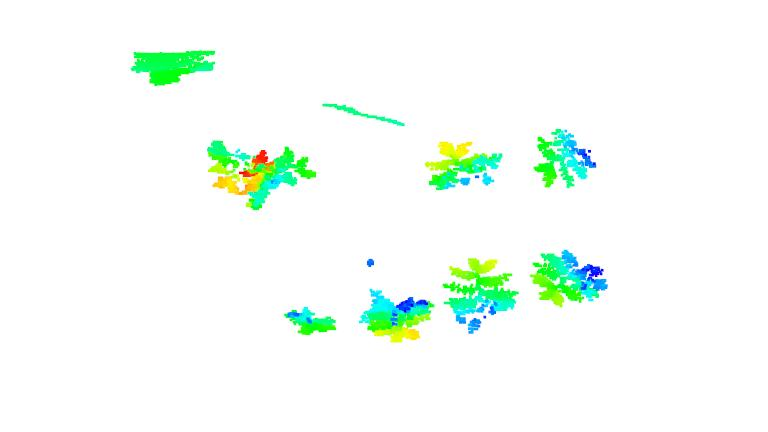chickpea: (205, 139, 320, 209), (442, 257, 517, 333), (531, 248, 608, 305), (422, 140, 504, 193), (356, 288, 436, 342), (534, 125, 598, 190), (280, 303, 340, 337)
